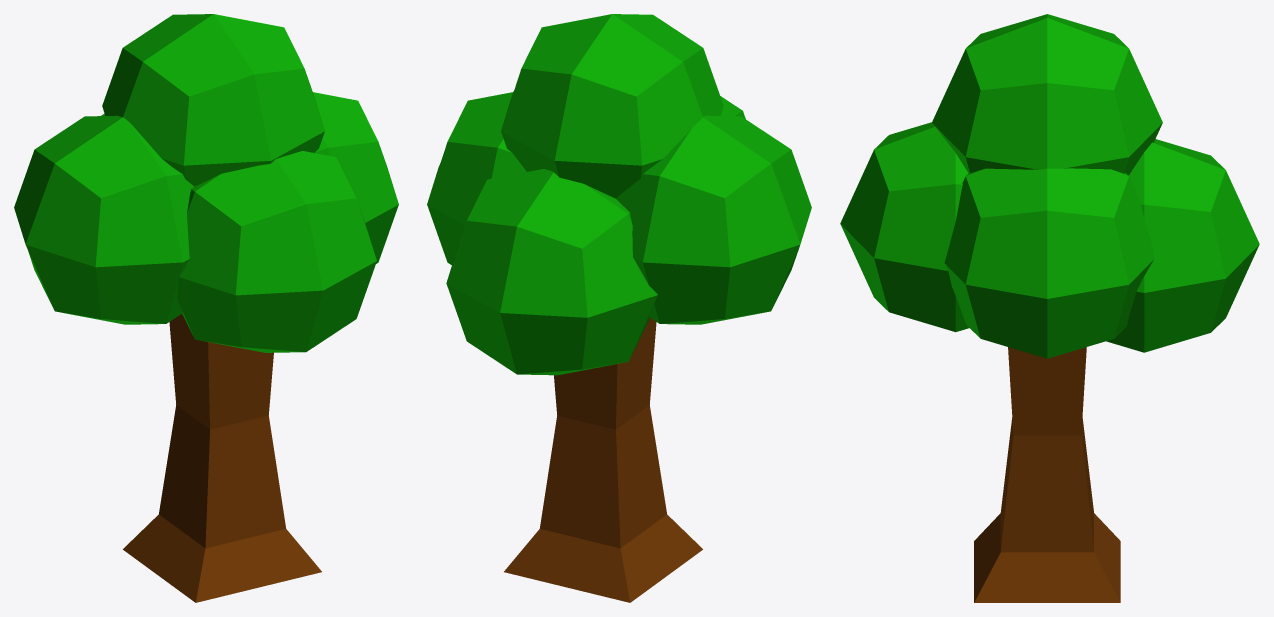
File: Tree1.fbx
3 views of the same model, side by side, from view 1: azimuth 30°, elevation 25°; view 2: azimuth 150°, elevation 25°; view 3: azimuth 270°, elevation 25° (orthographic).
Visible parts, largest first — view 1: Cube; view 2: Cube; view 3: Cube.
Part boxes in pixels (x1,y1,x2,y2): Cube: (14, 14, 398, 602); Cube: (427, 14, 811, 602); Cube: (840, 14, 1259, 602).
Size of the model in its own units: 376 by 546 by 377.
